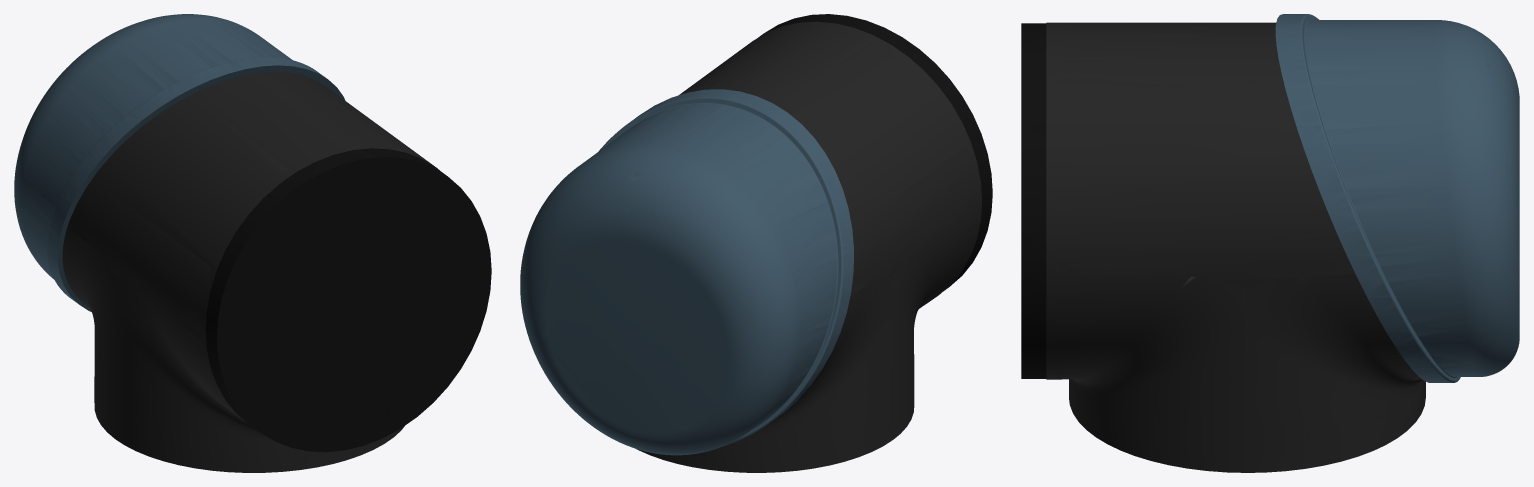
The model's file is wrist1.obj.
3 renders of one model, left to right at view 1: azimuth 30°, elevation 25°; view 2: azimuth 150°, elevation 25°; view 3: azimuth 270°, elevation 25°, orthographic. The views are drawn at different scales.
Bounding box in the file's own units: 0.0775 × 0.0849 × 0.1047.
Materials: 1 (1 with a texture image).
